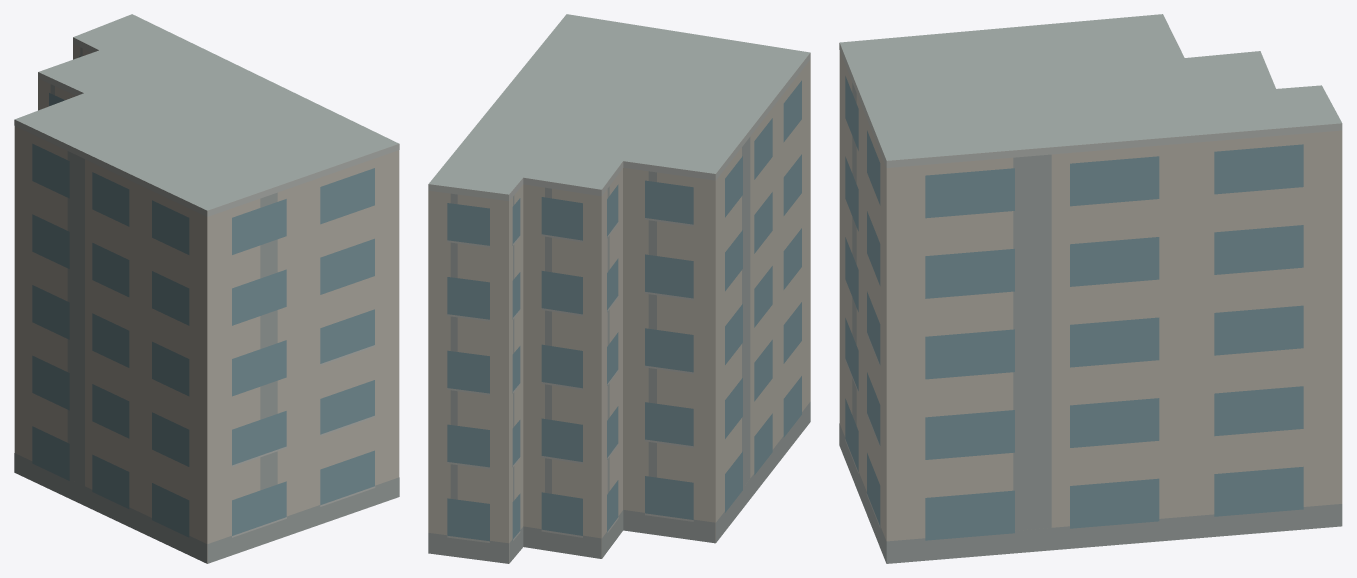
The model's file is survey-upis-32820727.glb.
The picture shows the model from 3 angles, left to right: view 1: azimuth 30°, elevation 25°; view 2: azimuth 150°, elevation 25°; view 3: azimuth 270°, elevation 25°; orthographic projection. The views are drawn at different scales.
Visible parts, largest first — view 1: survey-upis-32820727.tmp; view 2: survey-upis-32820727.tmp; view 3: survey-upis-32820727.tmp.
Boxes of the visible parts, bbox=[...] form: survey-upis-32820727.tmp: bbox=[14, 14, 399, 563]; survey-upis-32820727.tmp: bbox=[428, 14, 810, 563]; survey-upis-32820727.tmp: bbox=[839, 14, 1342, 563].
Size of the model in its own units: 10.64 by 13.6 by 15.39.
